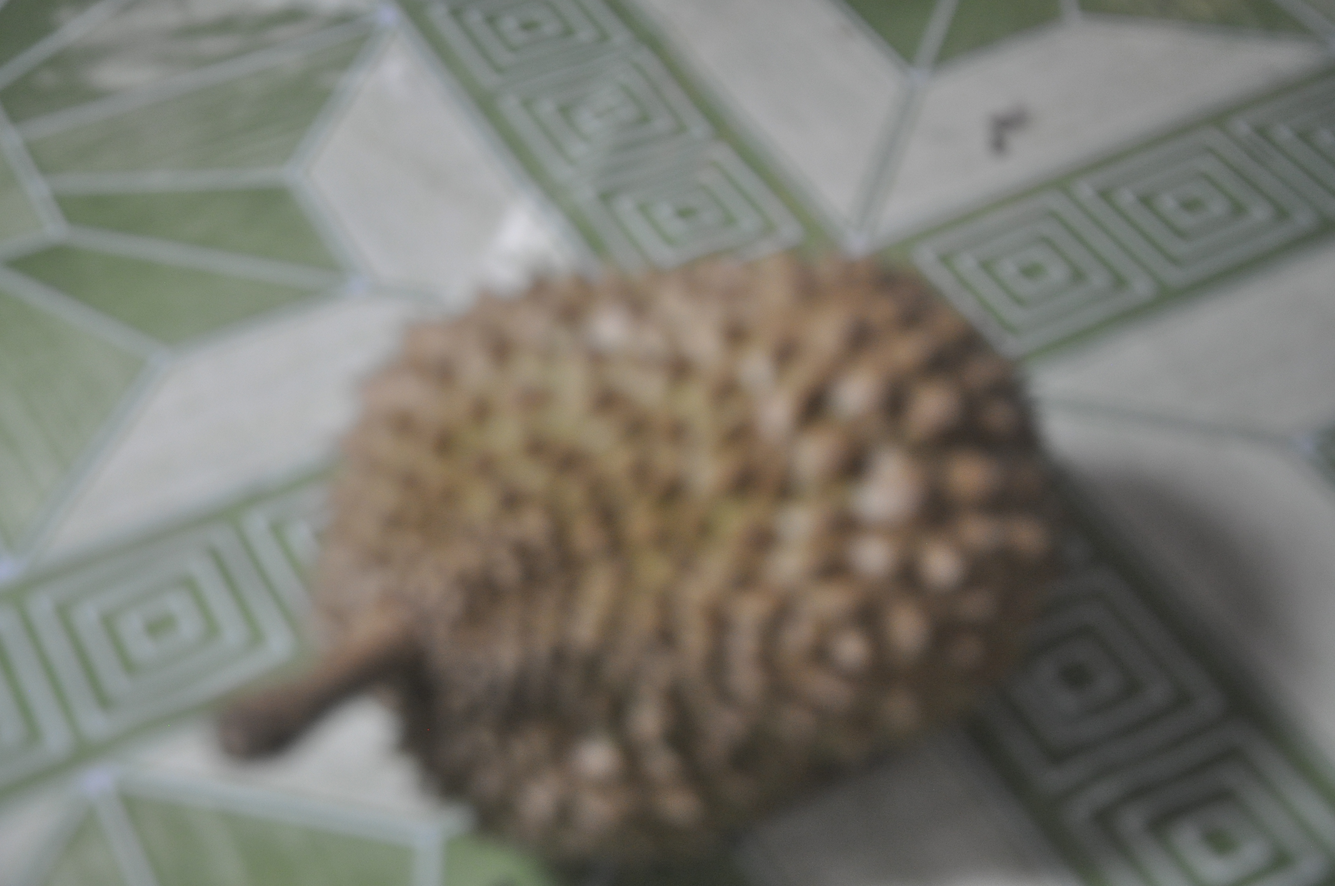mature: (219, 254, 1087, 886)
